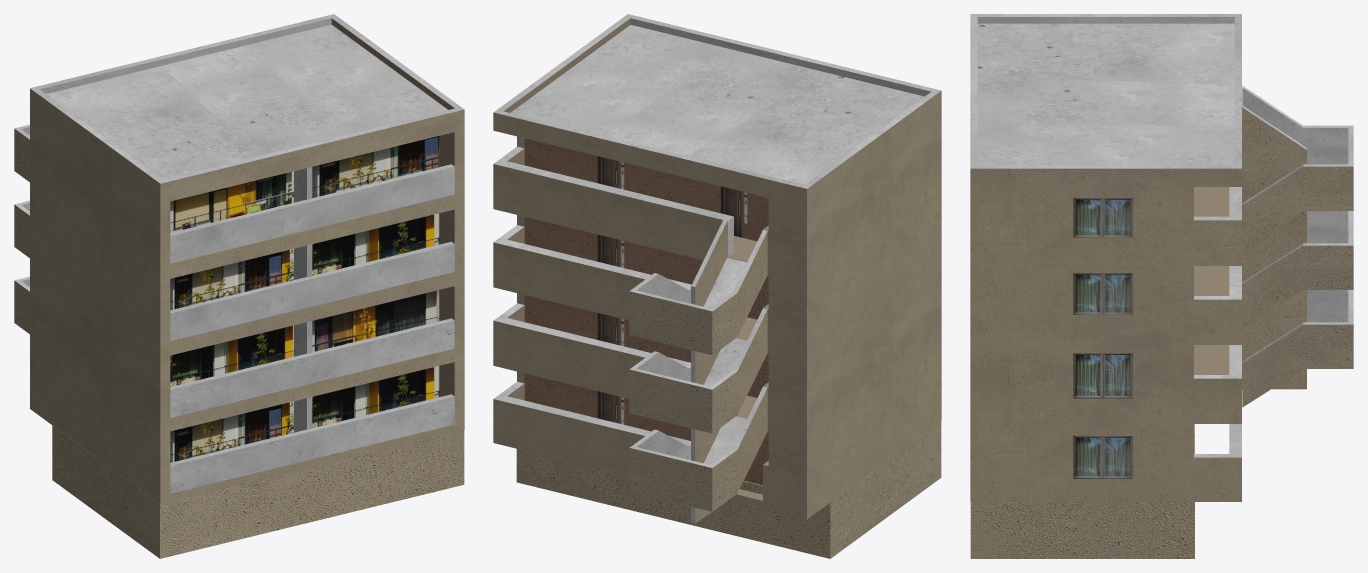
The model's file is JapaneseApartmenthouse01.fbx.
3 renders of one model, left to right at view 1: azimuth 30°, elevation 25°; view 2: azimuth 150°, elevation 25°; view 3: azimuth 270°, elevation 25°, orthographic. The views are drawn at different scales.
Visible parts, largest first — view 1: Empty_Mesh, Empty_Mesh_1; view 2: Empty_Mesh, Empty_Mesh_1; view 3: Empty_Mesh, Empty_Mesh_1.
Boxes of the visible parts, left/top/right/bottom form: Empty_Mesh: left=30, top=14, right=464, bottom=558; Empty_Mesh_1: left=14, top=124, right=29, bottom=333; Empty_Mesh: left=493, top=14, right=941, bottom=558; Empty_Mesh_1: left=629, top=220, right=767, bottom=523; Empty_Mesh: left=970, top=14, right=1241, bottom=558; Empty_Mesh_1: left=1242, top=85, right=1353, bottom=407.
Bounding box in the file's own units: 1084 × 1277 × 1136.
